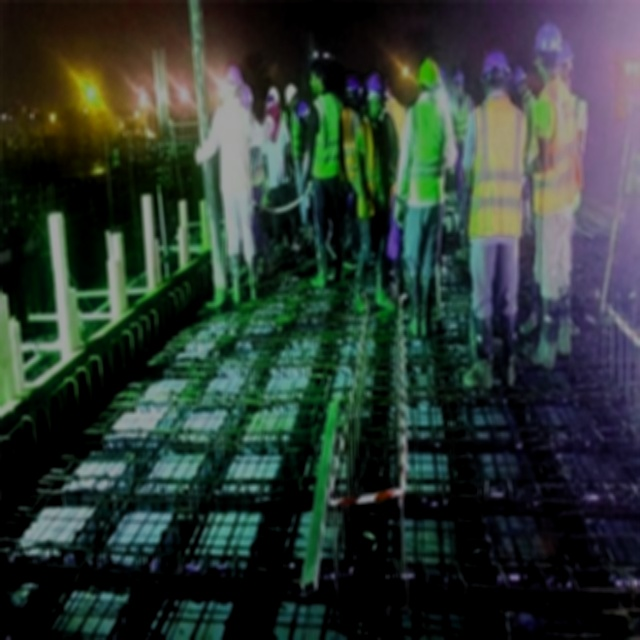Con_Chaleco: (468, 96, 527, 239), (534, 79, 582, 210), (405, 97, 451, 205)
